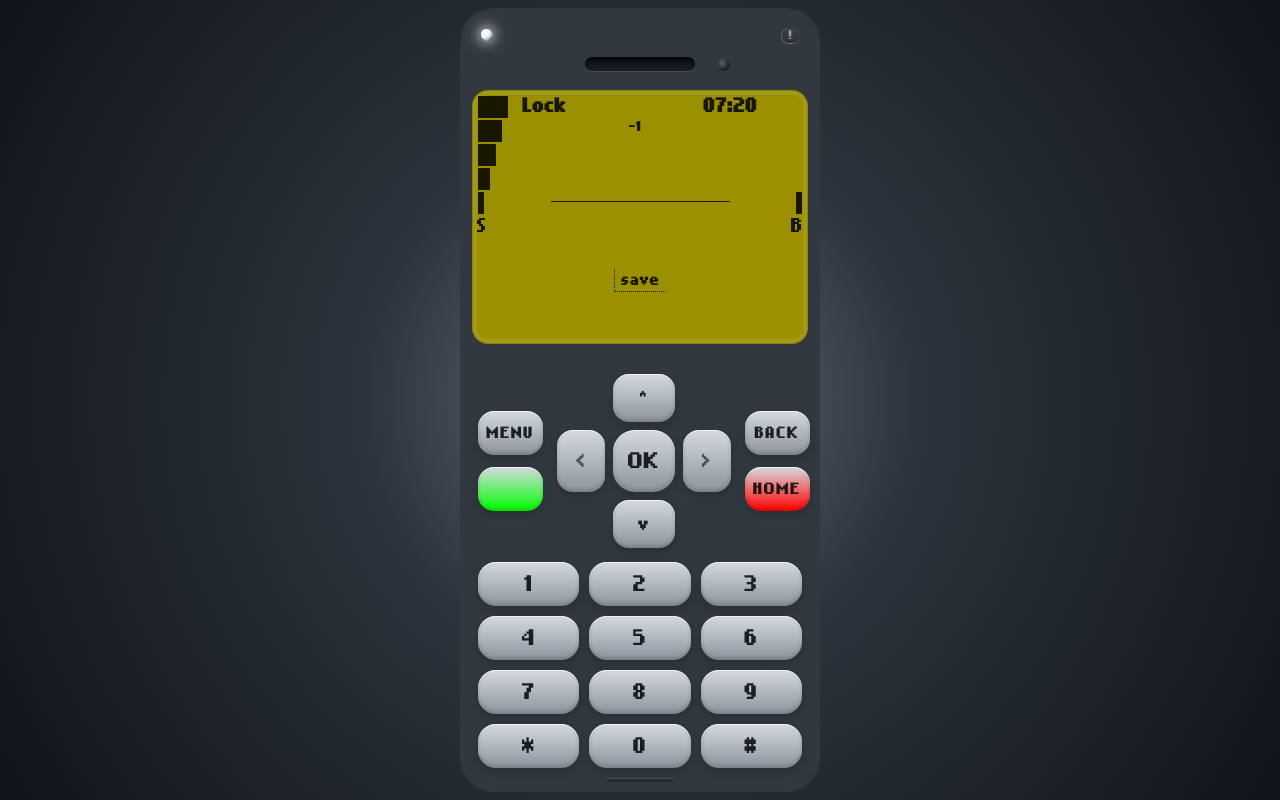
Test case: phone-book text entry integration › enters contact names through the on-screen numeric keypad and desktop digits
This screenshot has width=1280, height=800.
Click the button "2" at (640, 584), box [589, 562, 691, 606]
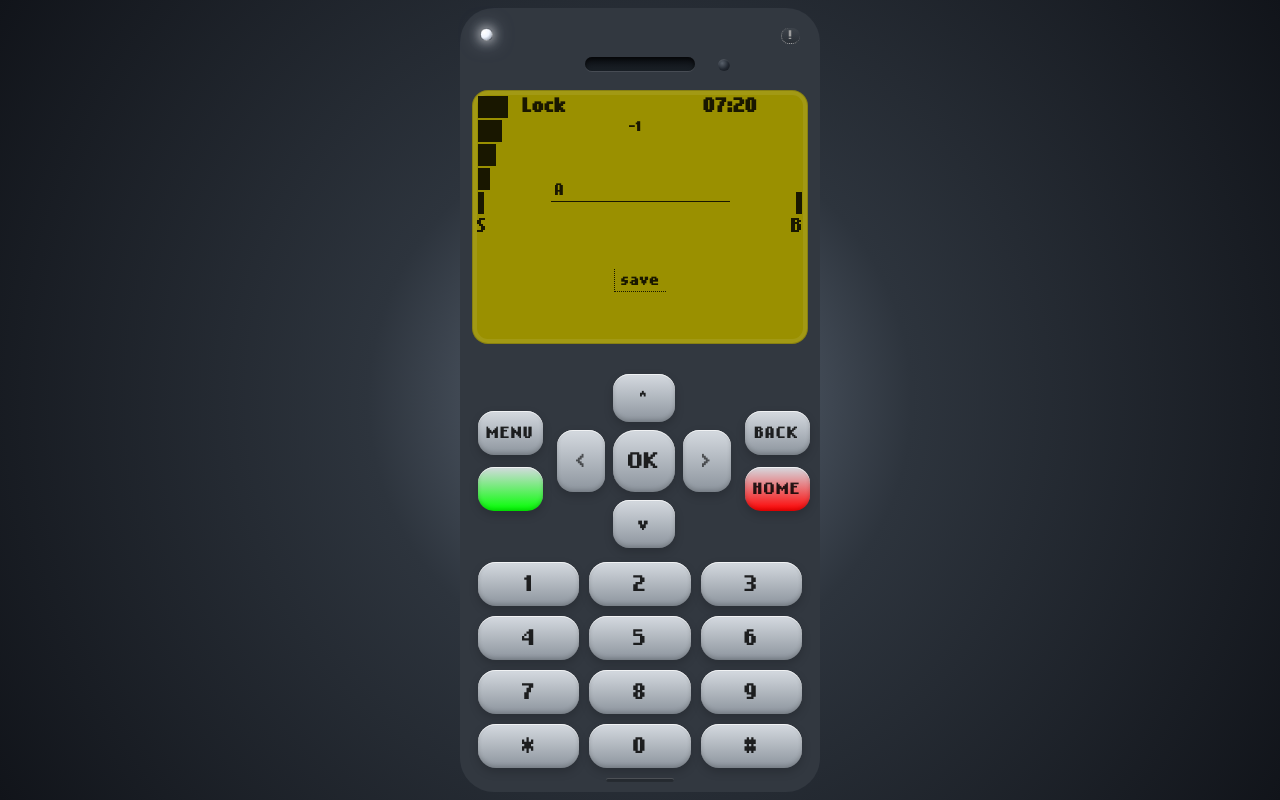
Expected: the field holds "A", [550, 179, 730, 202]
Press 3
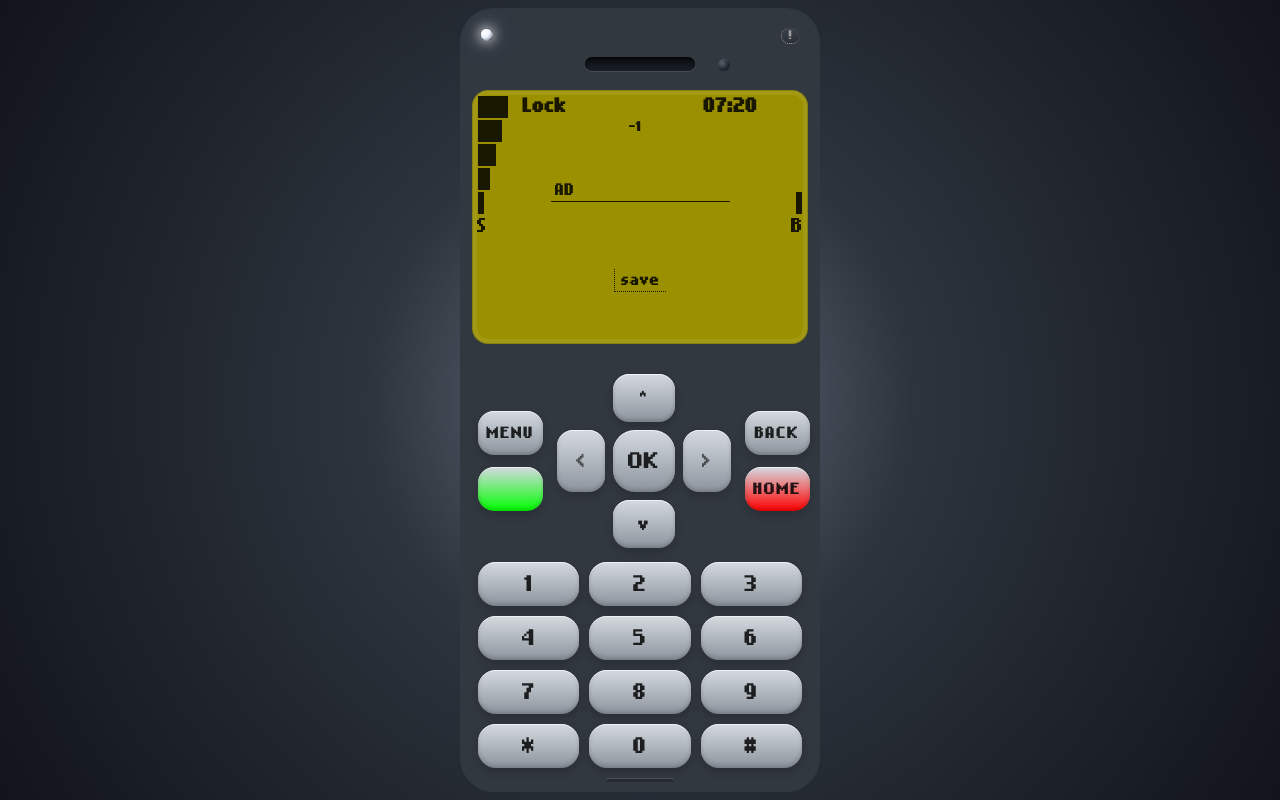
Expected: the field holds "AD", [550, 179, 730, 202]
